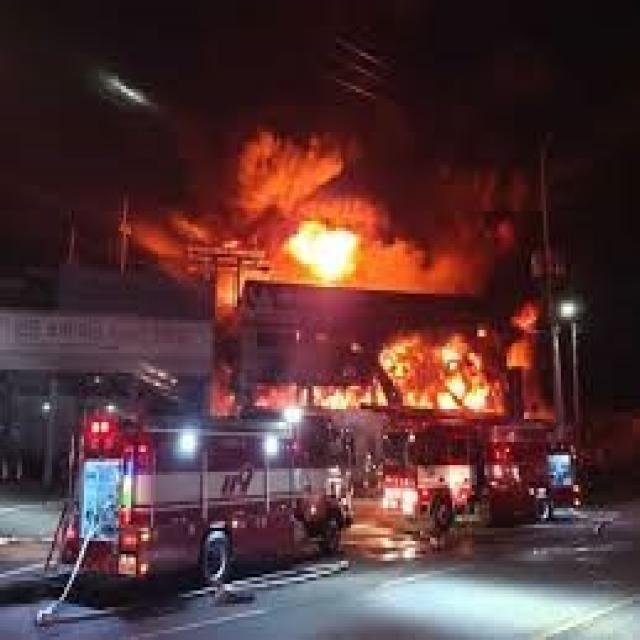Fire: (294, 338, 498, 420), (284, 218, 368, 282)
Smoke: (376, 234, 494, 296)
